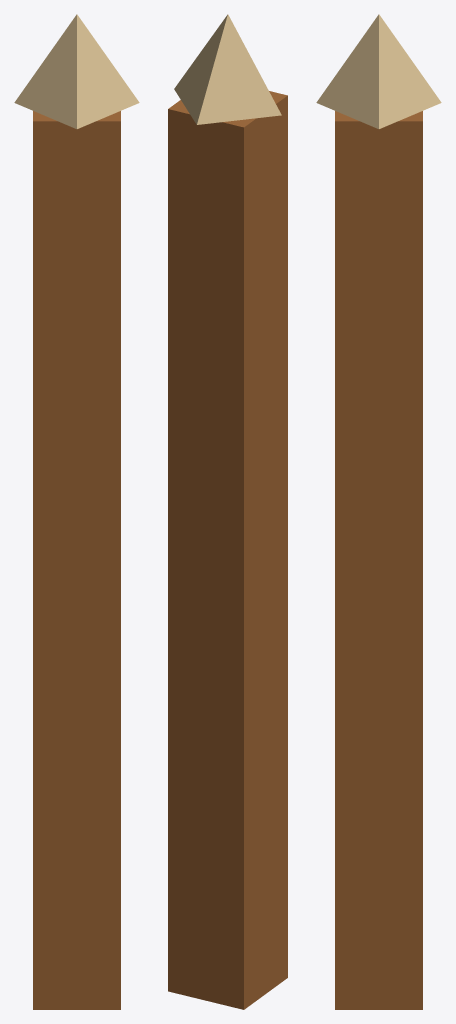
3 renders of one model, left to right at view 1: azimuth 90°, elevation 25°; view 2: azimuth 150°, elevation 25°; view 3: azimuth 270°, elevation 25°, orthographic.
Parts seen in each view (by area): view 1: 路牌立柱.001; view 2: 路牌立柱.001; view 3: 路牌立柱.001.
Part boxes in pixels (x1=…): 路牌立柱.001: x1=14, y1=14, x2=139, y2=1009; 路牌立柱.001: x1=168, y1=14, x2=287, y2=1009; 路牌立柱.001: x1=316, y1=14, x2=441, y2=1009.
Bounding box in the file's own units: 0.064 × 0.55 × 0.064.
